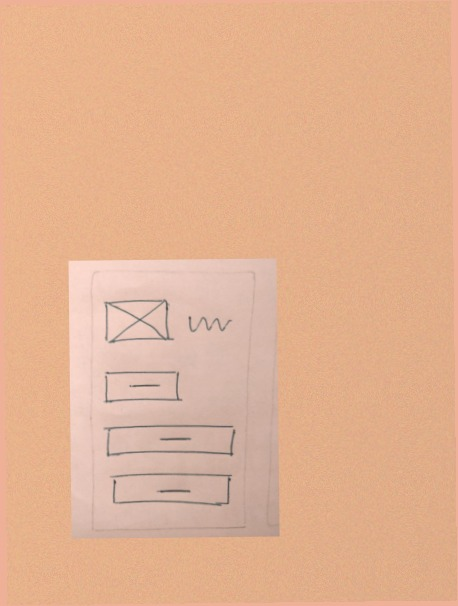button: (100, 422, 240, 460), (107, 470, 236, 510), (102, 369, 185, 408)
image: (101, 295, 178, 350)
text: (185, 314, 236, 336)
